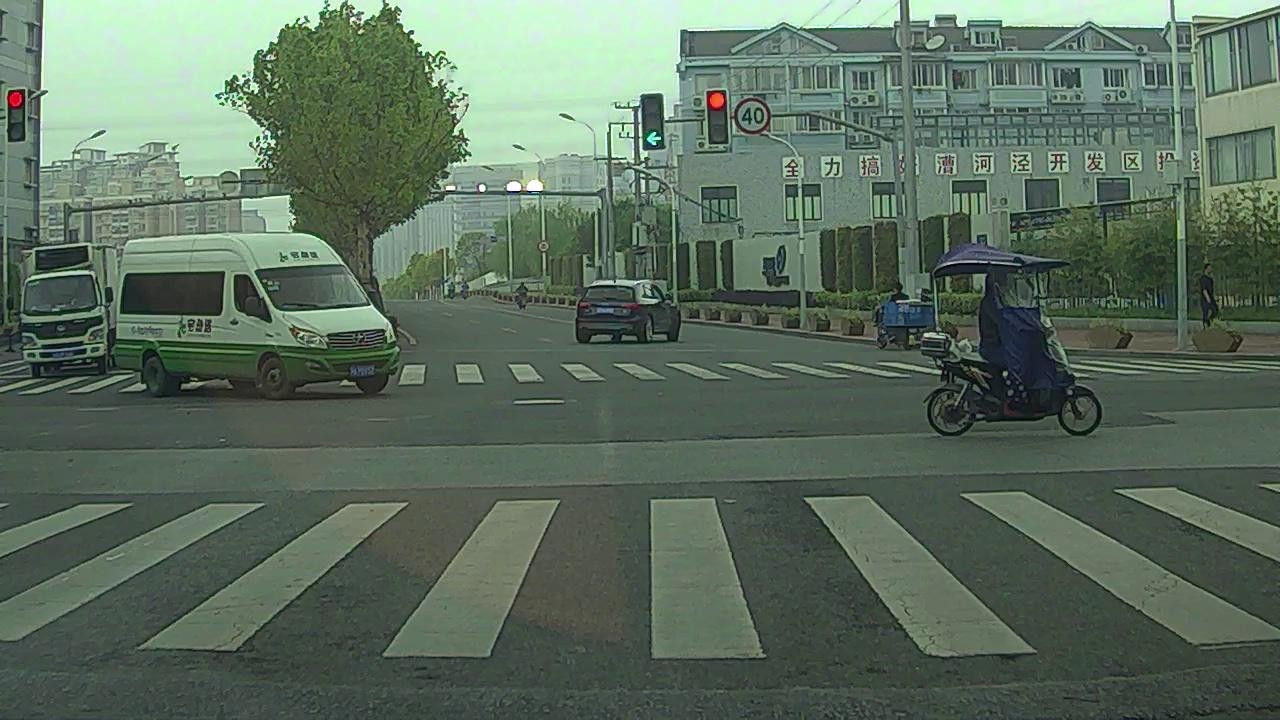traffic_light: (706, 89, 730, 144), (642, 94, 666, 148), (7, 88, 26, 141)
